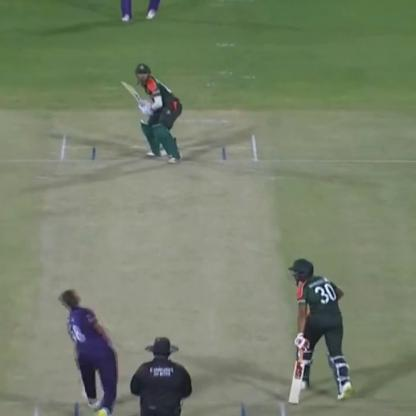bat: (281, 340, 307, 408), (119, 73, 148, 107)
pitch: (30, 125, 324, 416)
